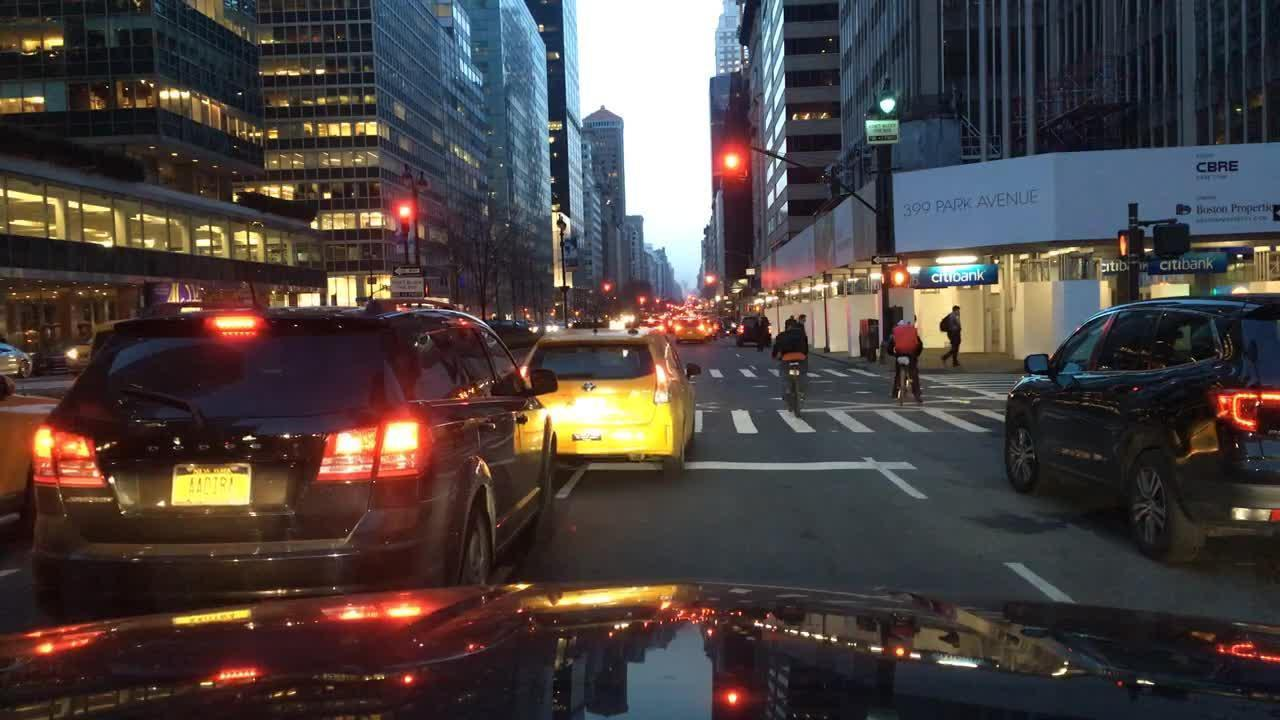Toyota: (579, 380, 598, 396)
dodge: (137, 435, 268, 460)
